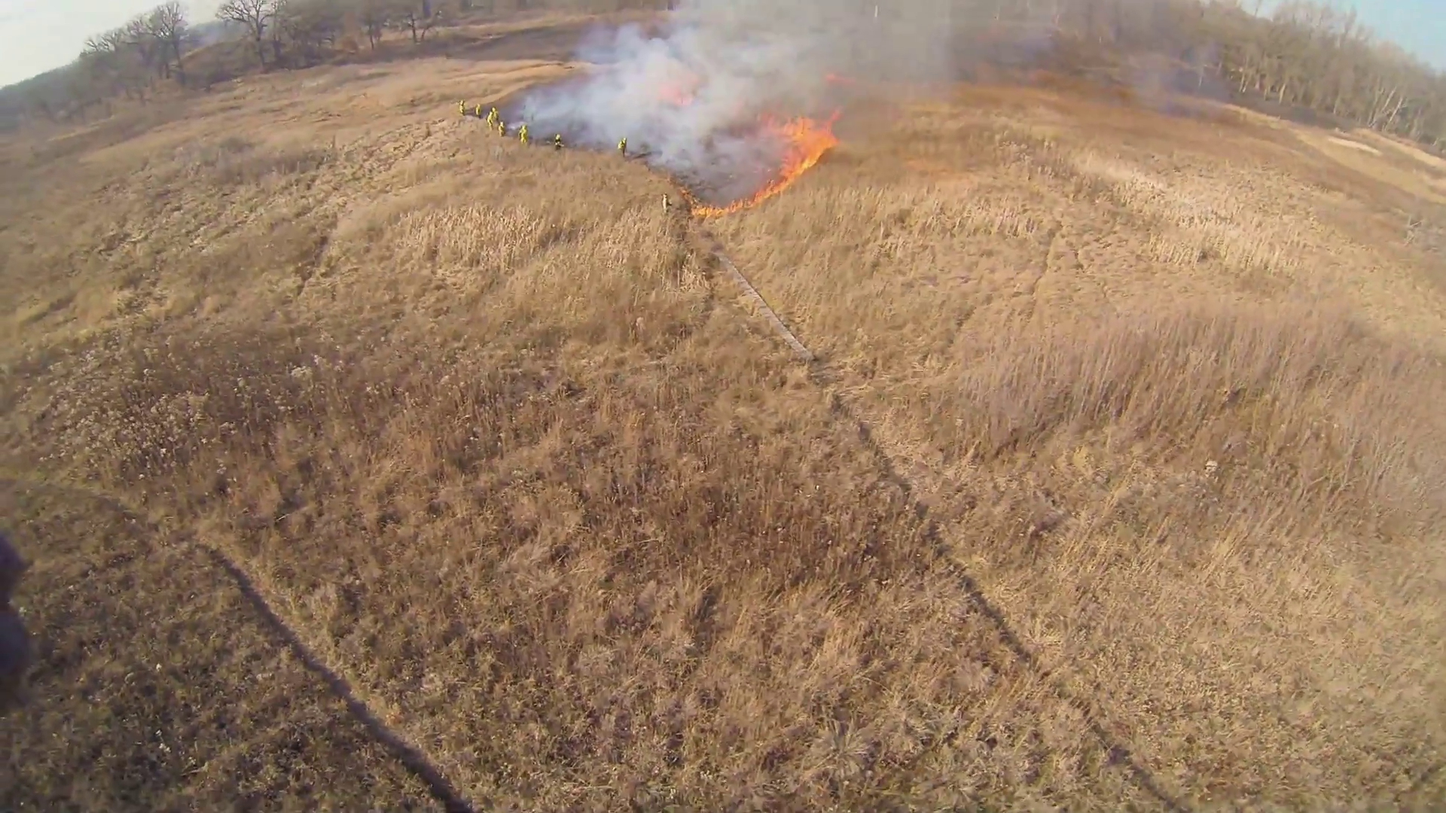forest_fire: (705, 111, 838, 214)
